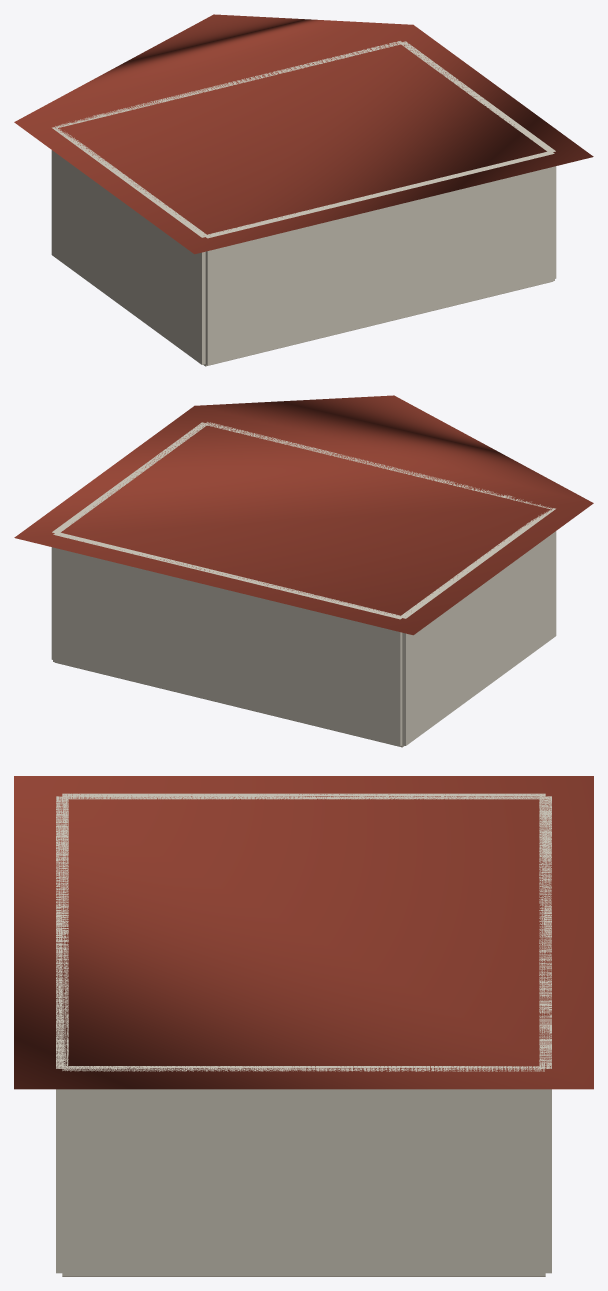
Rendered from mcp-clean-demo-house.glb.
3 renders of one model, top to bottom at view 1: azimuth 30°, elevation 25°; view 2: azimuth 150°, elevation 25°; view 3: azimuth 270°, elevation 25°, orthographic. The views are drawn at different scales.
Parts seen in each view (by area): view 1: rseg_qm4t36rghhed9m4j, AI Demo Living Room wall 3, AI Demo Living Room wall 4, AI Demo Living Room wall 1, AI Demo Living Room wall 2; view 2: rseg_qm4t36rghhed9m4j, AI Demo Living Room wall 1, AI Demo Living Room wall 4, AI Demo Living Room wall 3, AI Demo Living Room wall 2; view 3: rseg_qm4t36rghhed9m4j, AI Demo Living Room wall 2, AI Demo Living Room wall 3, AI Demo Living Room wall 1, AI Demo Living Room wall 4.
Part boxes in pixels (x1,y1,x2,y2): rseg_qm4t36rghhed9m4j: (14,14,593,254); AI Demo Living Room wall 3: (204,151,554,365); AI Demo Living Room wall 4: (51,127,207,364); AI Demo Living Room wall 1: (55,41,403,128); AI Demo Living Room wall 2: (399,41,556,278); rseg_qm4t36rghhed9m4j: (14,395,593,635); AI Demo Living Room wall 1: (53,532,403,746); AI Demo Living Room wall 4: (400,508,556,745); AI Demo Living Room wall 3: (205,422,551,509); AI Demo Living Room wall 2: (51,422,207,659); rseg_qm4t36rghhed9m4j: (14,776,593,1089); AI Demo Living Room wall 2: (62,1066,545,1275); AI Demo Living Room wall 3: (56,796,68,1273); AI Demo Living Room wall 1: (539,796,551,1273); AI Demo Living Room wall 4: (62,793,545,799).
Size of the model in its own units: 9.2 by 4.15 by 7.2.
